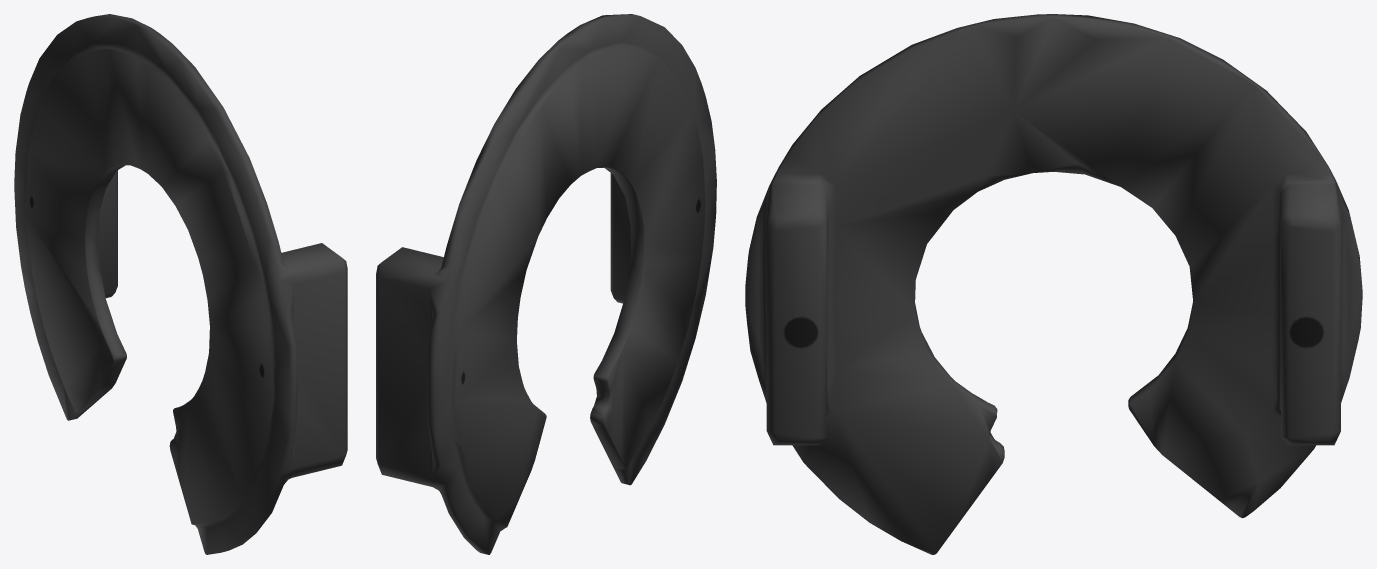
The model's file is upper_arm_roll.dae.
3 views of the same model, side by side, from view 1: azimuth 30°, elevation 25°; view 2: azimuth 150°, elevation 25°; view 3: azimuth 270°, elevation 25° (orthographic). The views are drawn at different scales.
Visible parts, largest first — view 1: upper_arm_roll_M; view 2: upper_arm_roll_M; view 3: upper_arm_roll_M.
Boxes of the visible parts, box(x1,y1,x2,y2) form: upper_arm_roll_M: box(14, 14, 347, 554); upper_arm_roll_M: box(376, 14, 716, 554); upper_arm_roll_M: box(745, 14, 1362, 554).
Size of the model in its own units: 0.023 by 0.1381 by 0.1441.
1 material, 1 textured.
